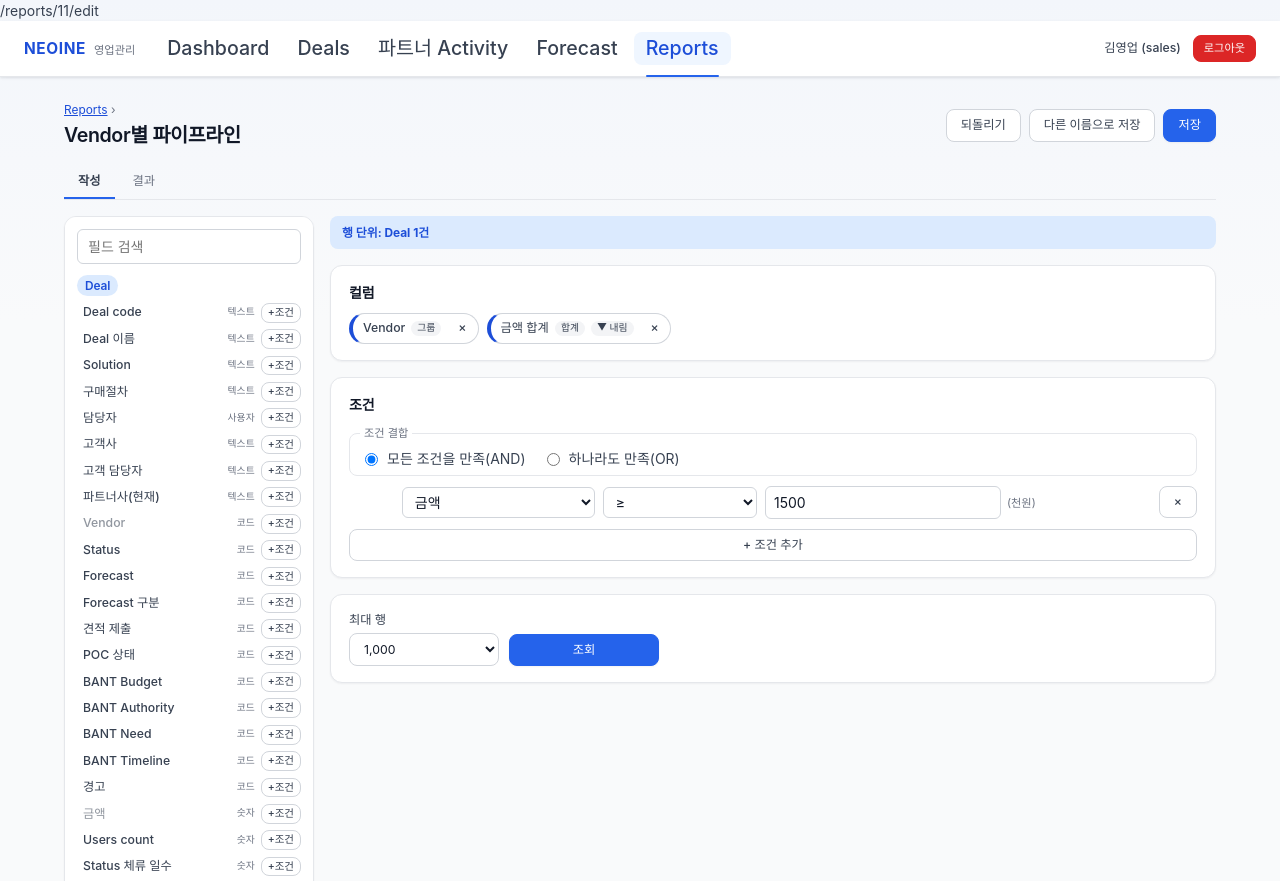
Test: 덮어쓰기 revision은 편집을 시작한 값을 따른다 (리뷰 Major 1) › keeps the dialog defaults from the loaded report after the detail is fetched again
The width and height of the screenshot is (1280, 881).
Step 1. Click the tab "작성" → (89,182), box 64,166 -> 114,199
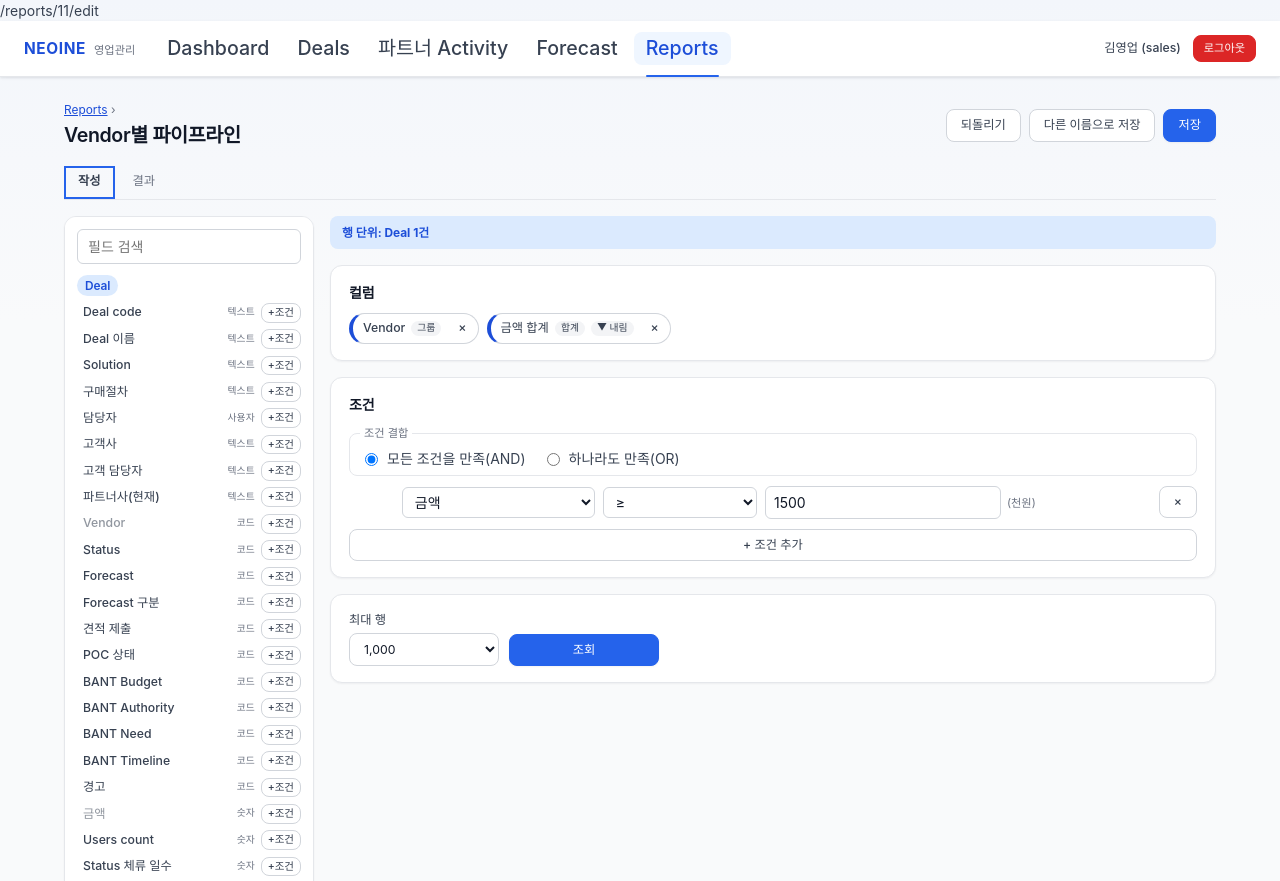
Step 2. Click the button with aria-label "Deal code 컬럼에 추가" → (149,313), box 77,300 -> 222,325
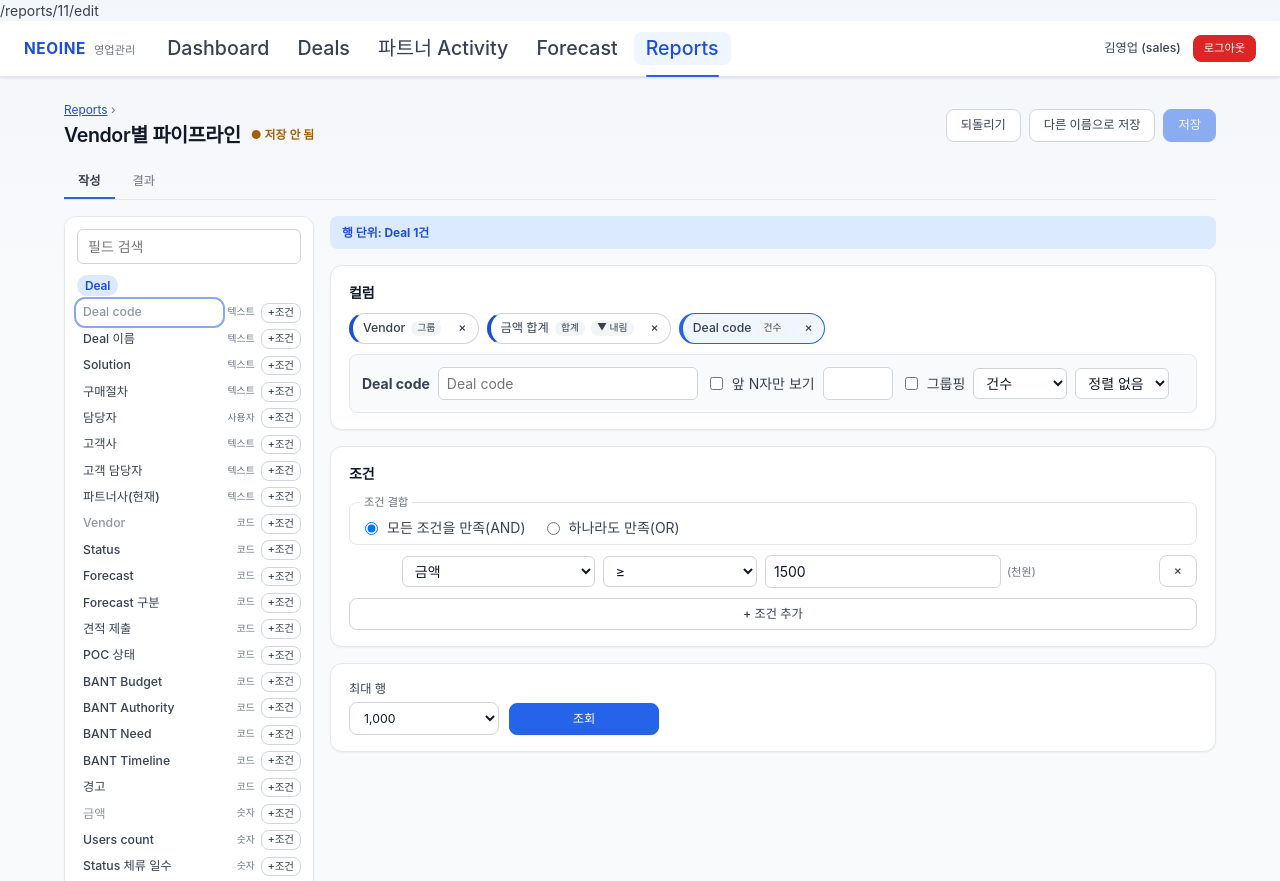
Step 3. Click the button "Deal code 건수" → (740,329), box 685,316 -> 796,341
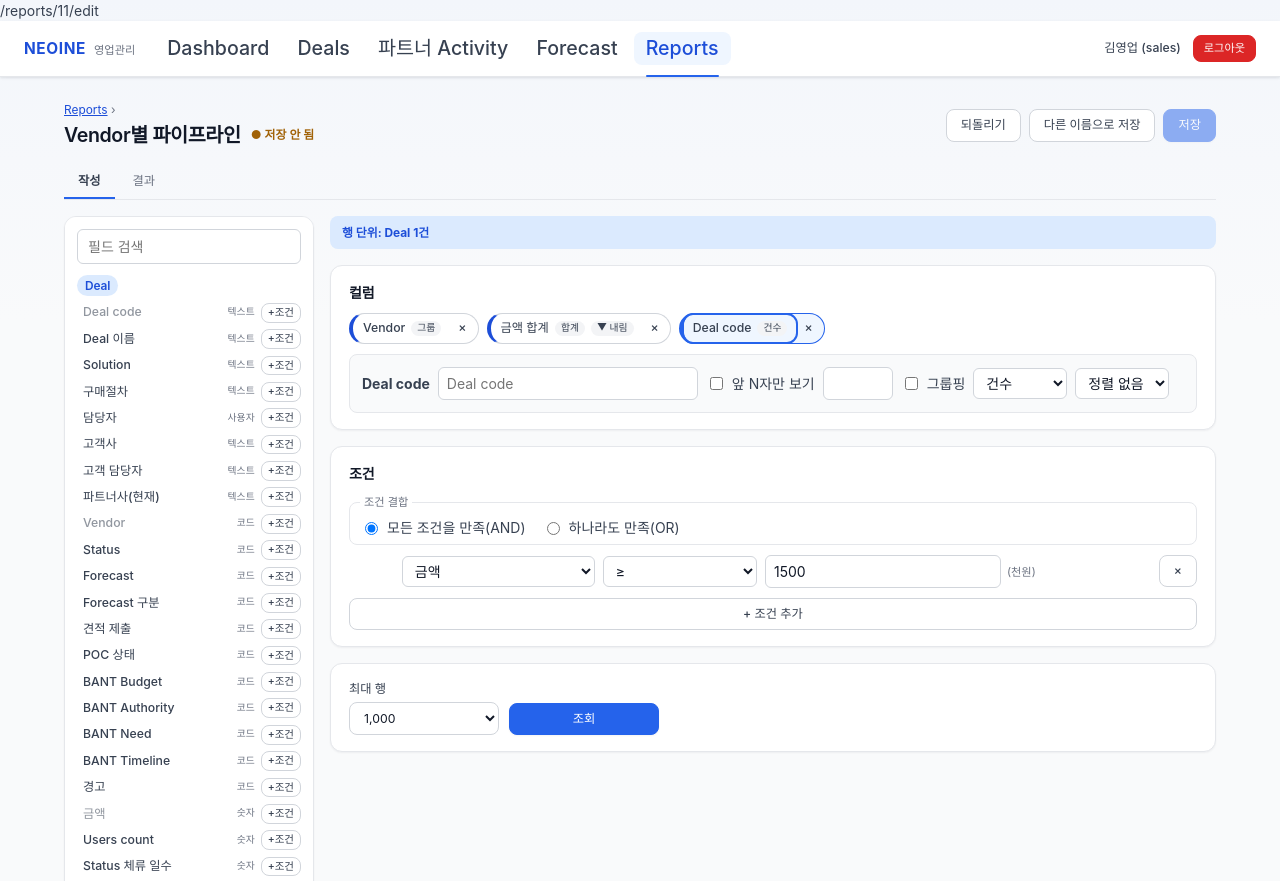
Step 4. Select "건수" in the dropdown named "집계" → (1020,383), box 973,368 -> 1067,399
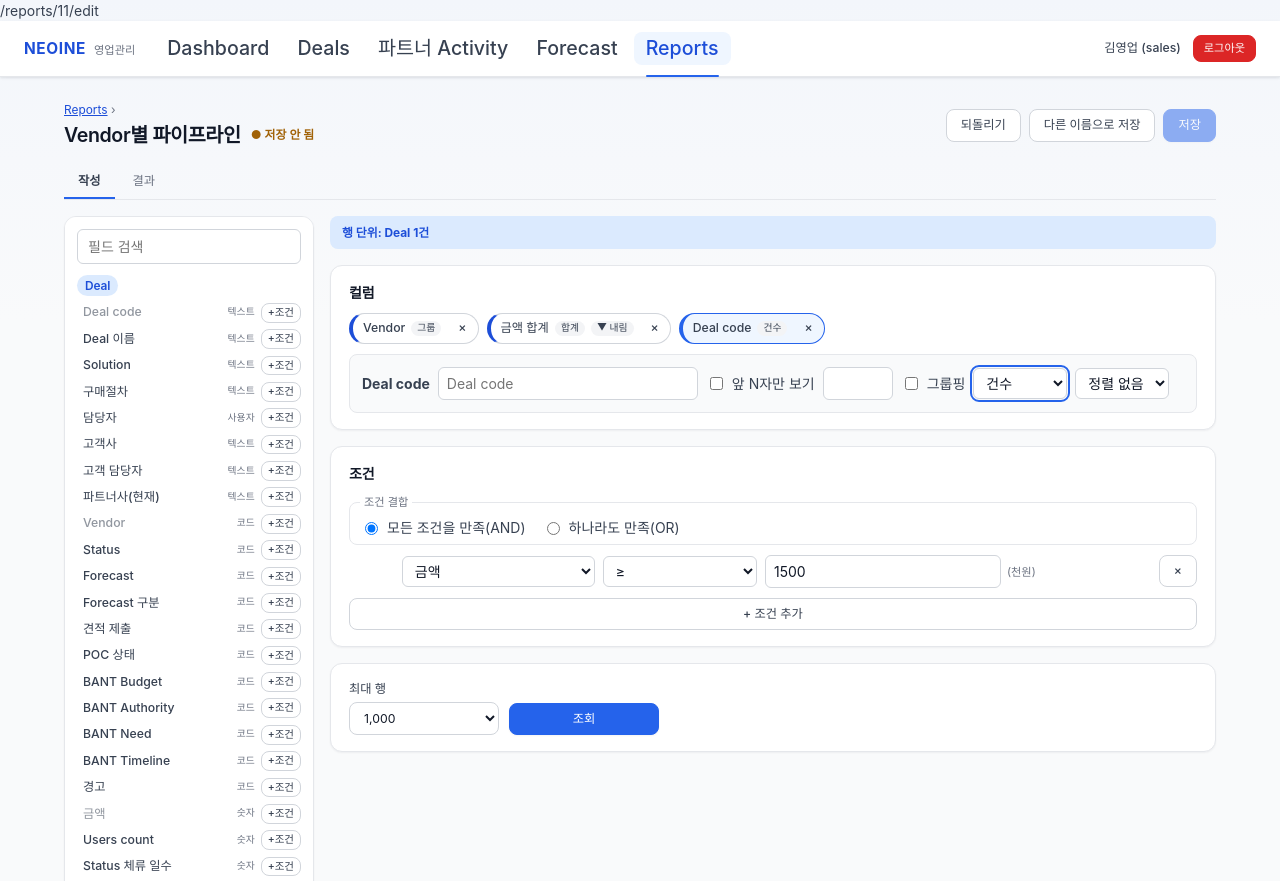
Step 5. Click the button "조회" → (584,719), box 509,703 -> 659,735
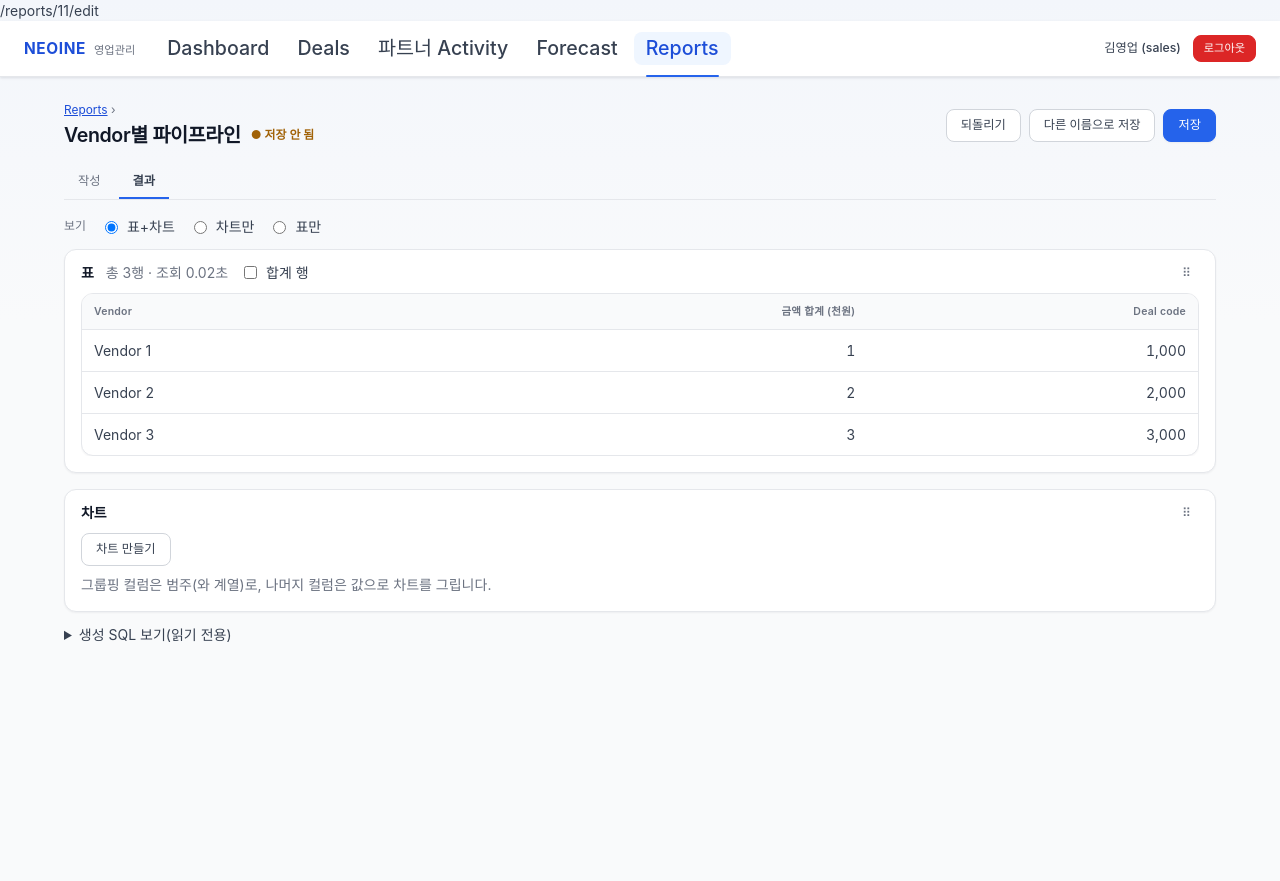
Expected: the button "저장" is enabled
Step 6. Click the button "저장" → (1190,126), box 1164,109 -> 1216,142
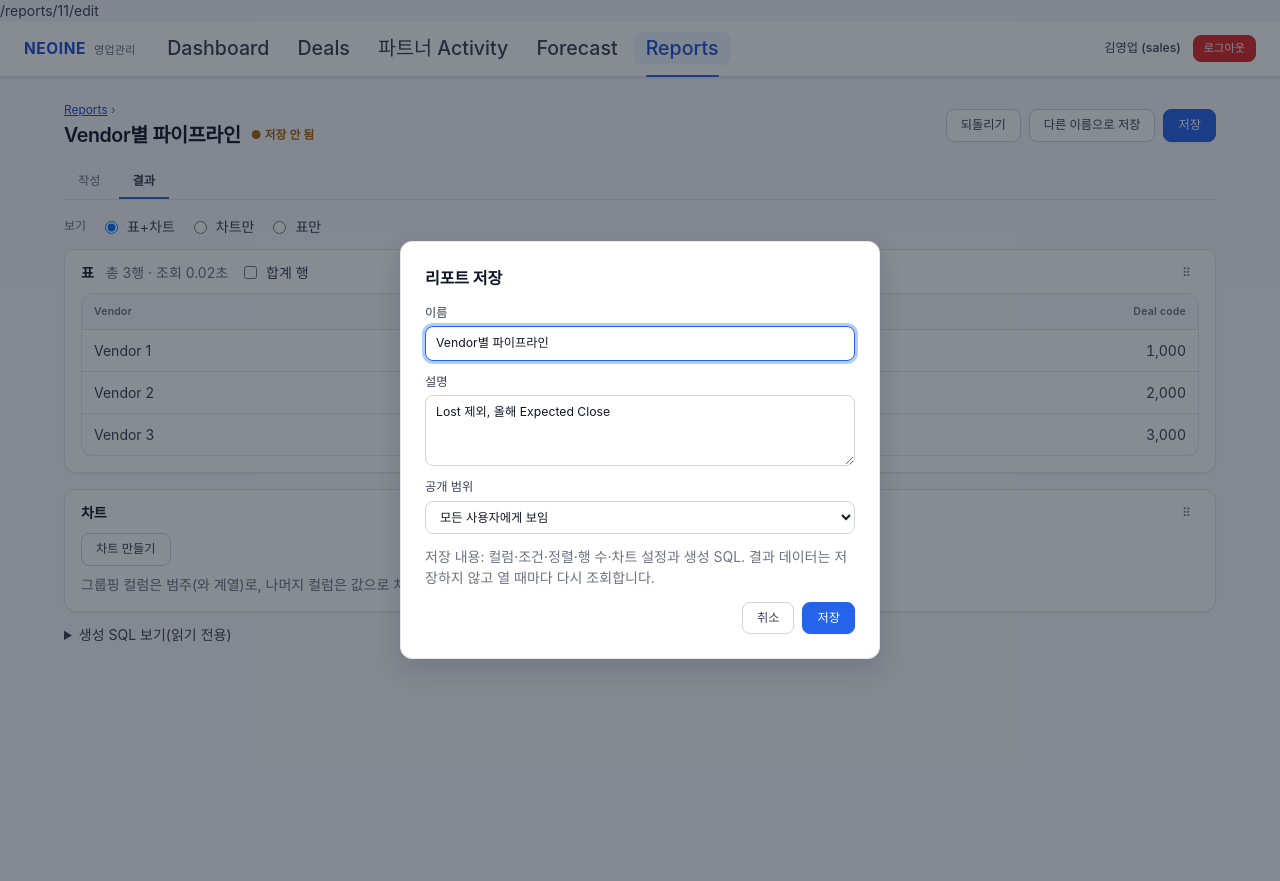
Expected: the field labelled "이름" holds "Vendor별 파이프라인", 425,326 -> 855,361
